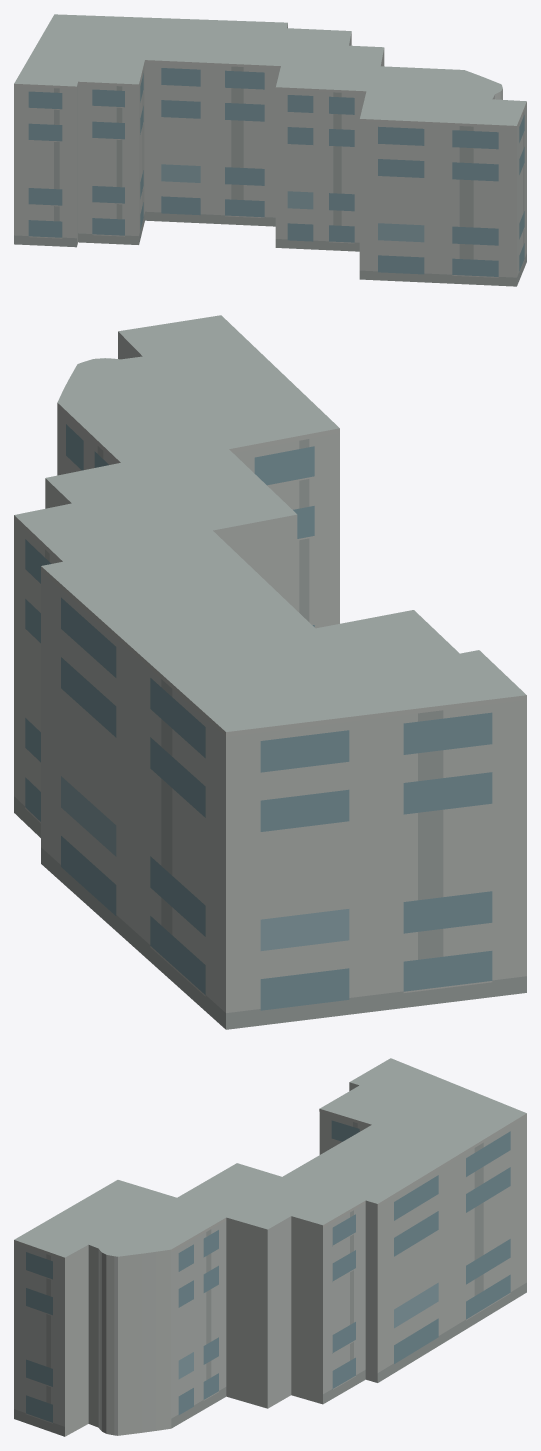
The model's file is survey-upis-32920528.glb.
3 renders of one model, top to bottom at view 1: azimuth 30°, elevation 25°; view 2: azimuth 150°, elevation 25°; view 3: azimuth 270°, elevation 25°, orthographic. The views are drawn at different scales.
Visible parts, largest first — view 1: survey-upis-32920528.tmp; view 2: survey-upis-32920528.tmp; view 3: survey-upis-32920528.tmp.
Boxes of the visible parts, x1,y1,x2,y2 form: survey-upis-32920528.tmp: (14,14,526,286); survey-upis-32920528.tmp: (14,315,526,1029); survey-upis-32920528.tmp: (14,1058,526,1436).
Bounding box in the file's own units: 35.84 × 15 × 38.93.
